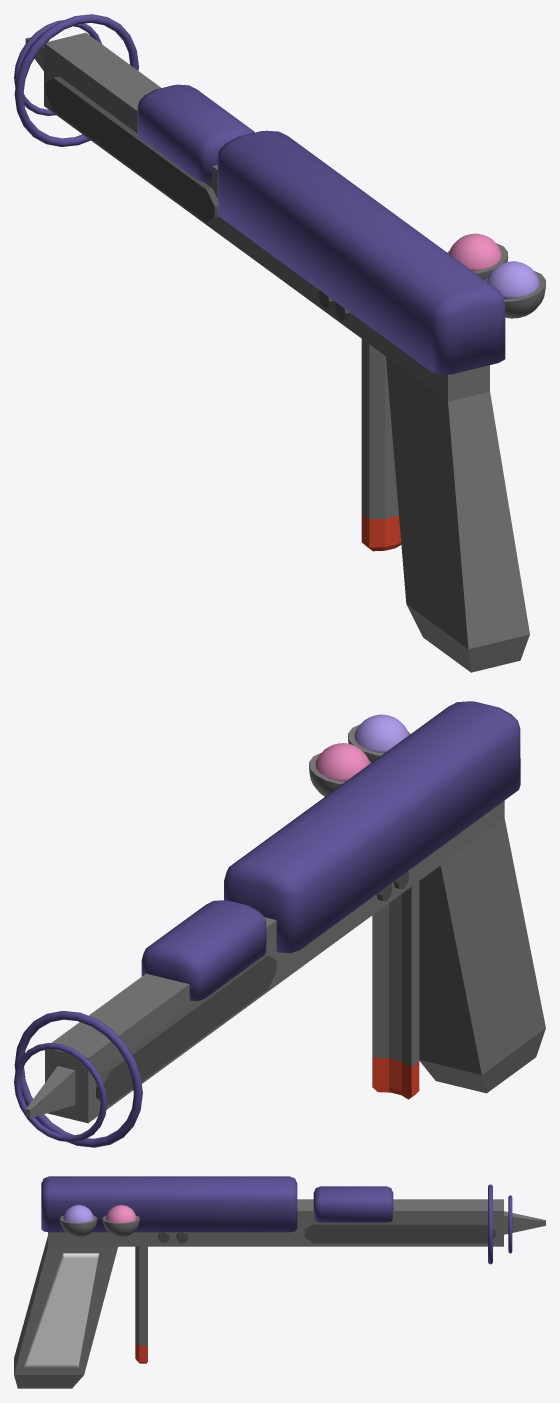
File: shrinkRay.fbx
3 views of the same model, one above another, from view 1: azimuth 30°, elevation 25°; view 2: azimuth 150°, elevation 25°; view 3: azimuth 270°, elevation 25° (orthographic). The views are drawn at different scales.
Visible parts, largest first — view 1: Shrink Ray; view 2: Shrink Ray; view 3: Shrink Ray.
Part boxes in pixels (box(x1,y1,x2,y2)): Shrink Ray: box(14, 14, 545, 672); Shrink Ray: box(14, 701, 545, 1147); Shrink Ray: box(14, 1176, 545, 1388).
Bounding box in the file's own units: 135 × 681 × 284.
